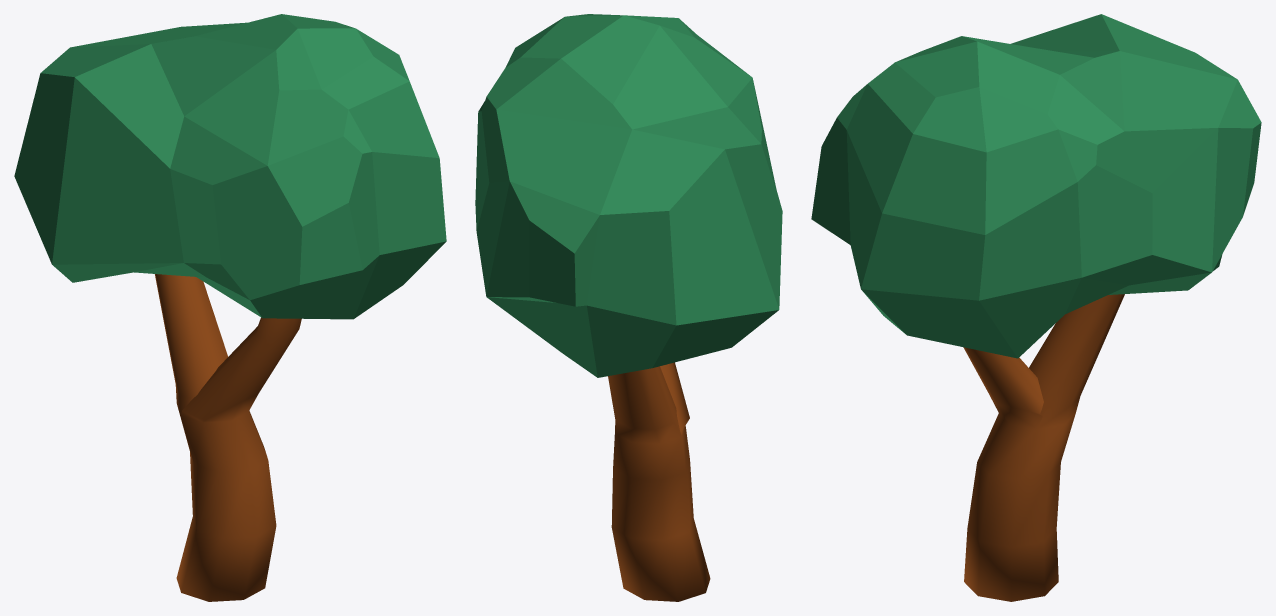
The model's file is deciduous-tree-1.glb.
3 views of the same model, side by side, from view 1: azimuth 30°, elevation 25°; view 2: azimuth 150°, elevation 25°; view 3: azimuth 270°, elevation 25° (orthographic). The views are drawn at different scales.
Visible parts, largest first — view 1: deciduous-tree-1; view 2: deciduous-tree-1; view 3: deciduous-tree-1.
Boxes of the visible parts, x1,y1,x2,y2 form: deciduous-tree-1: [14, 14, 446, 601]; deciduous-tree-1: [475, 14, 782, 601]; deciduous-tree-1: [811, 14, 1261, 601].
Size of the model in its own units: 3.8 by 6.06 by 4.33.
